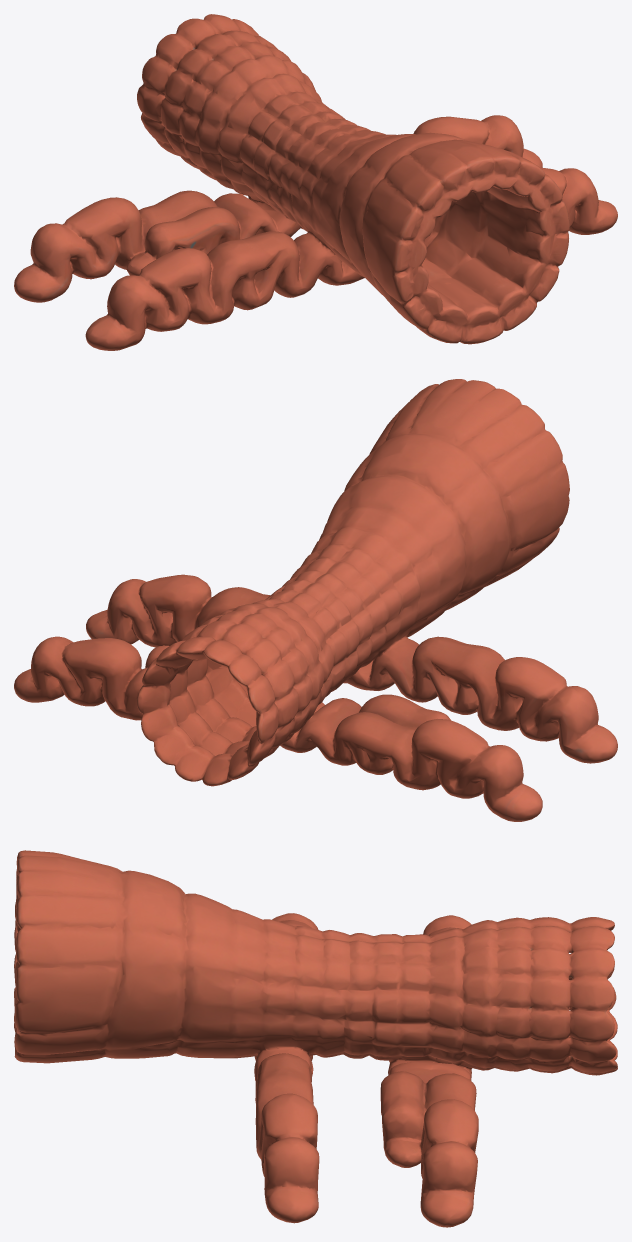
File: Env_ColonPipe.glb
3 views of the same model, one above another, from view 1: azimuth 30°, elevation 25°; view 2: azimuth 150°, elevation 25°; view 3: azimuth 270°, elevation 25° (orthographic). The views are drawn at different scales.
Bounding box in the file's own units: 1.9 × 0.793 × 1.8.
Materials: 1 (1 with a texture image).
